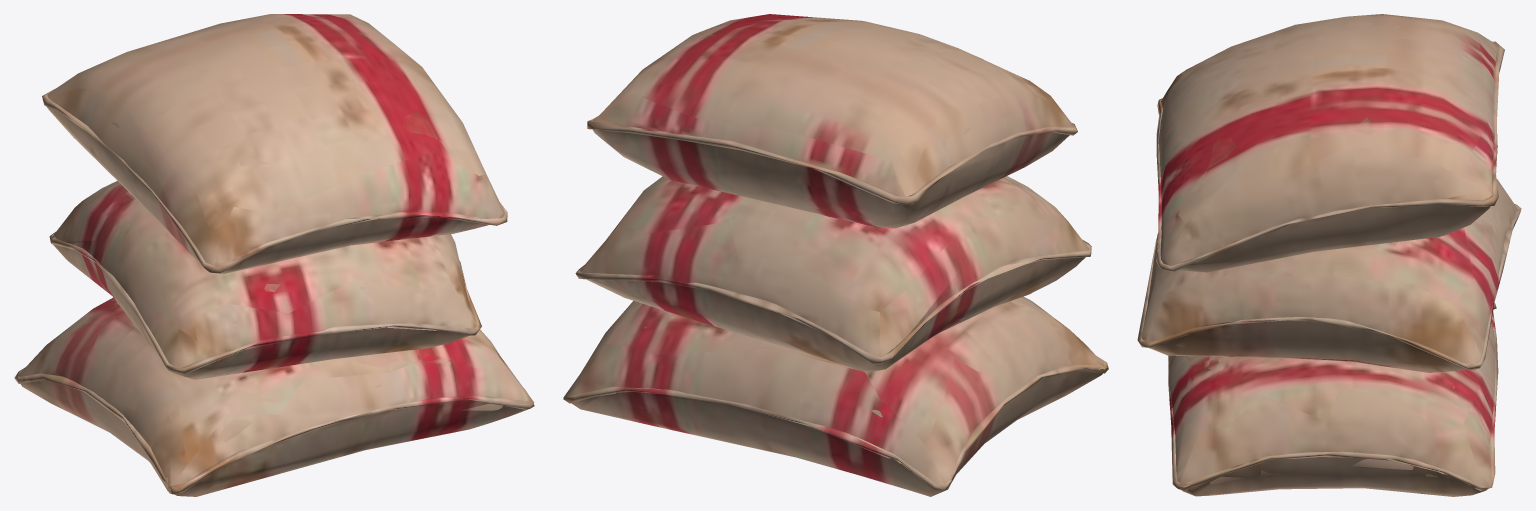
File: sacks.glb
3 views of the same model, side by side, from view 1: azimuth 30°, elevation 25°; view 2: azimuth 150°, elevation 25°; view 3: azimuth 270°, elevation 25° (orthographic). The views are drawn at different scales.
Visible parts, largest first — view 1: Mesh0; view 2: Mesh0; view 3: Mesh0.
Boxes of the visible parts, bbox=[...] form: Mesh0: bbox=[14, 14, 534, 496]; Mesh0: bbox=[563, 14, 1108, 496]; Mesh0: bbox=[1137, 14, 1521, 496].
Bounding box in the file's own units: 1.01 × 0.9487 × 0.8984.
Materials: 1 (1 with a texture image).
